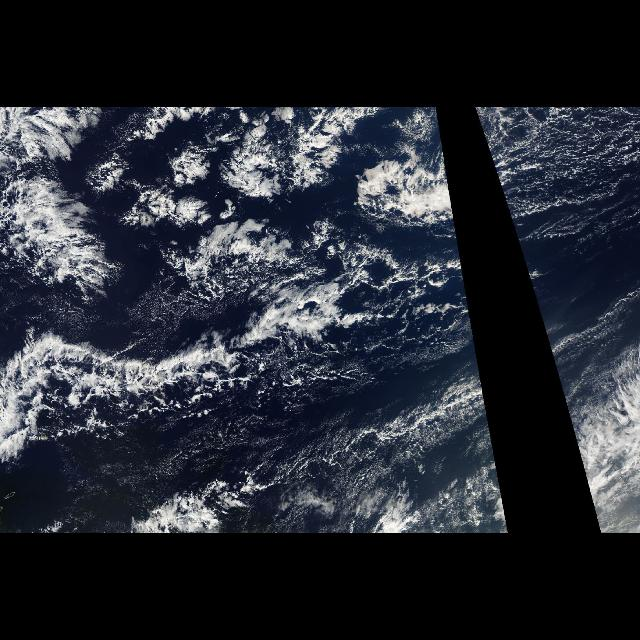Fish: (4, 313, 444, 423), (6, 116, 104, 300)
